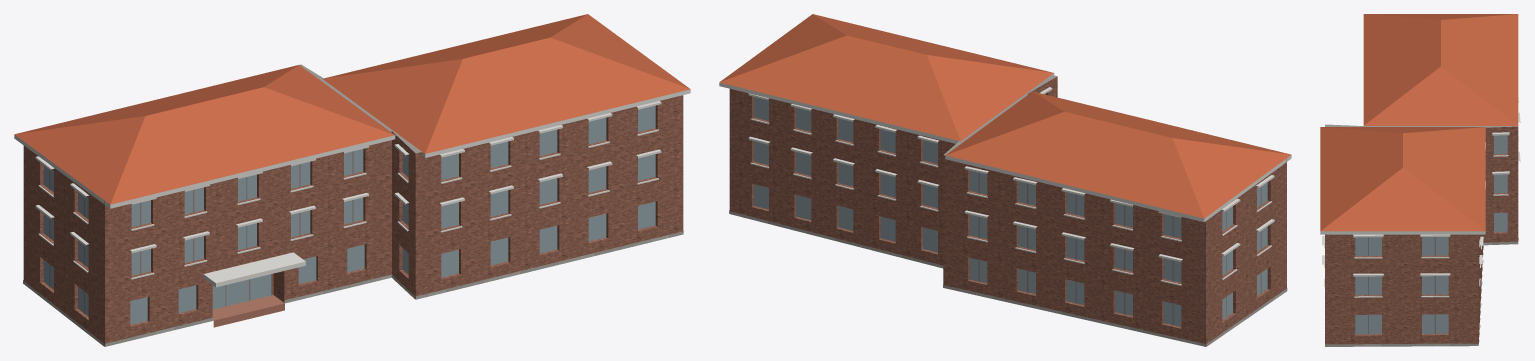
The picture shows the model from 3 angles, left to right: view 1: azimuth 30°, elevation 25°; view 2: azimuth 150°, elevation 25°; view 3: azimuth 270°, elevation 25°; orthographic projection. The views are drawn at different scales.
Visible parts, largest first — view 1: osm136243005__wall, osm136243005__roofAccent, osm136243005__glass, osm136243005__trim, osm136243005__base, osm136243005__canopy, osm136243005__entranceThreshold_0, osm136243005__frame; view 2: osm136243005__wall, osm136243005__roofAccent, osm136243005__glass, osm136243005__trim, osm136243005__base, osm136243005__frame; view 3: osm136243005__roofAccent, osm136243005__wall, osm136243005__glass, osm136243005__trim, osm136243005__base, osm136243005__roof, osm136243005__frame.
Boxes of the visible parts, box(x1,y1,x2,y2) form: osm136243005__wall: box(23, 95, 683, 346); osm136243005__roofAccent: box(14, 14, 690, 204); osm136243005__glass: box(43, 105, 655, 324); osm136243005__trim: box(14, 89, 690, 279); osm136243005__base: box(23, 231, 683, 346); osm136243005__canopy: box(203, 252, 305, 287); osm136243005__entranceThreshold_0: box(212, 295, 284, 327); osm136243005__frame: box(49, 151, 353, 314); osm136243005__wall: box(729, 76, 1286, 346); osm136243005__roofAccent: box(719, 14, 1291, 218); osm136243005__glass: box(754, 94, 1267, 326); osm136243005__trim: box(719, 73, 1291, 285); osm136243005__base: box(729, 210, 1287, 346); osm136243005__frame: box(978, 172, 1261, 325); osm136243005__roofAccent: box(1320, 14, 1518, 231); osm136243005__wall: box(1325, 126, 1518, 344); osm136243005__glass: box(1355, 135, 1507, 334); osm136243005__trim: box(1320, 97, 1520, 297); osm136243005__base: box(1325, 238, 1518, 346); osm136243005__roof: box(1325, 124, 1517, 346); osm136243005__frame: box(1368, 237, 1435, 334).
Size of the model in its own units: 35.92 by 11.61 by 13.92.
Materials: 10 (2 with a texture image).
